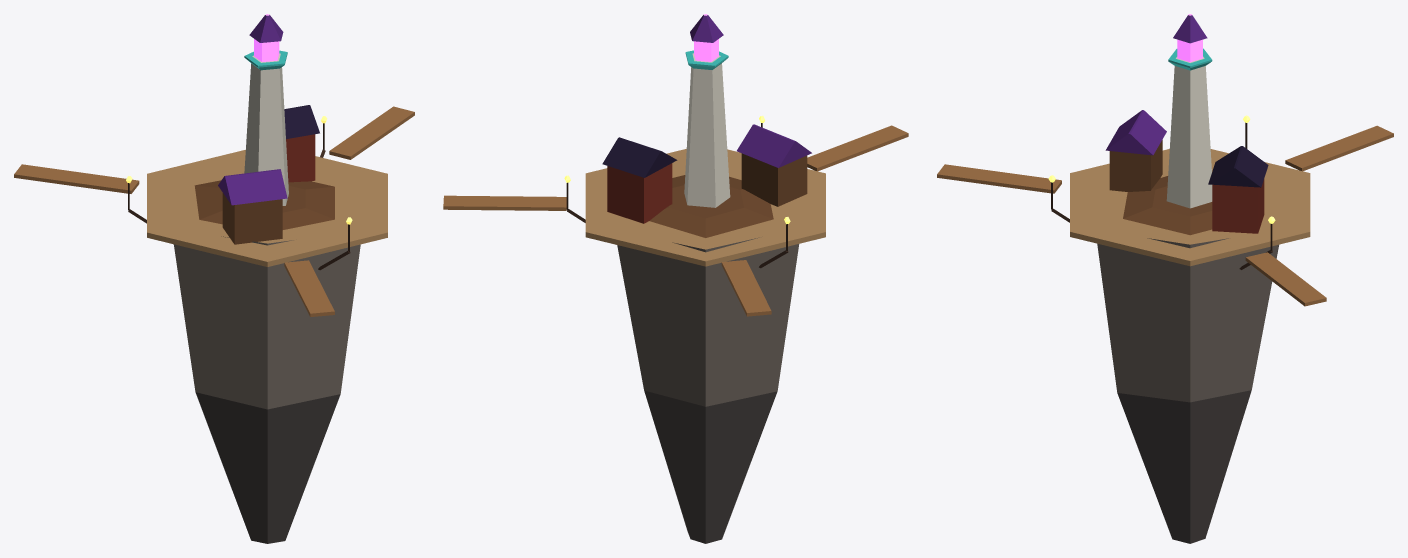
Rendered from SM_Env_SmugglersHaven_LQ.glb.
3 renders of one model, left to right at view 1: azimuth 30°, elevation 25°; view 2: azimuth 150°, elevation 25°; view 3: azimuth 270°, elevation 25°, orthographic.
Visible parts, largest first — view 1: SM_Env_SmugglersHaven_LQ; view 2: SM_Env_SmugglersHaven_LQ; view 3: SM_Env_SmugglersHaven_LQ.
Part boxes in pixels (left/top/right/bottom): SM_Env_SmugglersHaven_LQ: left=14, top=14, right=414, bottom=543; SM_Env_SmugglersHaven_LQ: left=443, top=14, right=908, bottom=543; SM_Env_SmugglersHaven_LQ: left=937, top=14, right=1393, bottom=543.
Bounding box in the file's own units: 21.79 × 29.8 × 23.72.
1 material, 1 textured.
